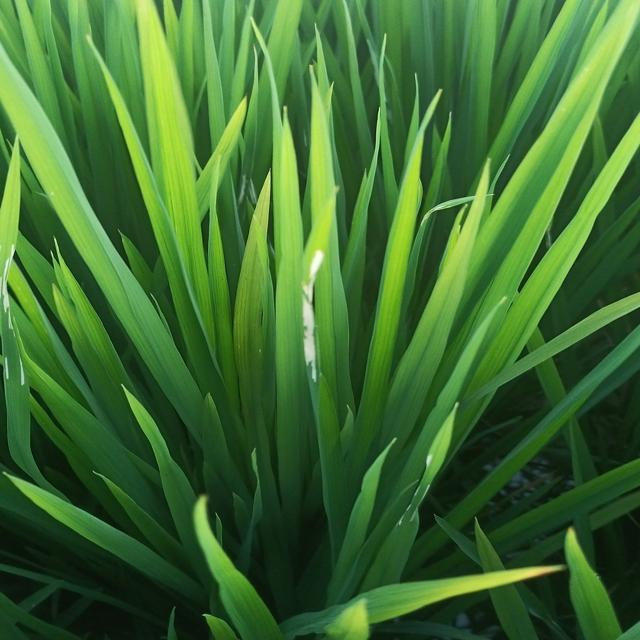brown plant hopper: (0, 239, 35, 399), (298, 243, 328, 392), (398, 446, 438, 537)
